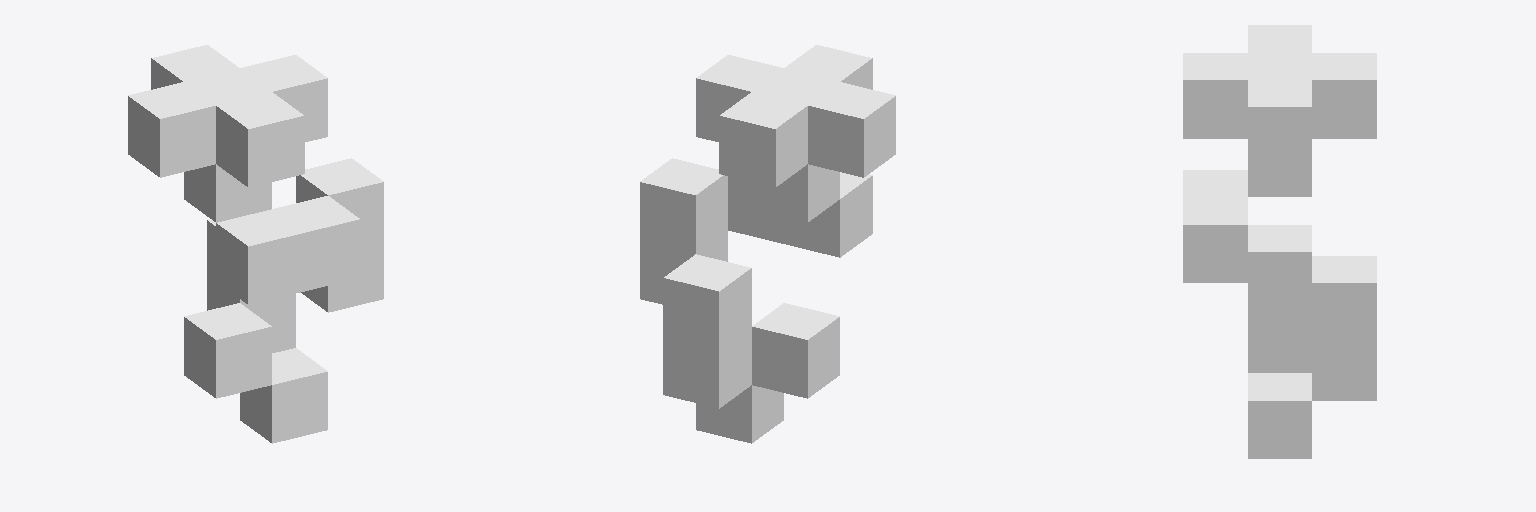
The model's file is ExtrasSmallBlueFlower.obj.
3 views of the same model, side by side, from view 1: azimuth 30°, elevation 25°; view 2: azimuth 150°, elevation 25°; view 3: azimuth 270°, elevation 25° (orthographic).
Parts seen in each view (by area): view 1: object 1; view 2: object 1; view 3: object 1.
Boxes of the visible parts, <box> form: object 1: <box>128,45,383,443</box>; object 1: <box>640,45,895,443</box>; object 1: <box>1183,25,1376,458</box>.
Bounding box in the file's own units: 0.4 × 0.6 × 0.3.